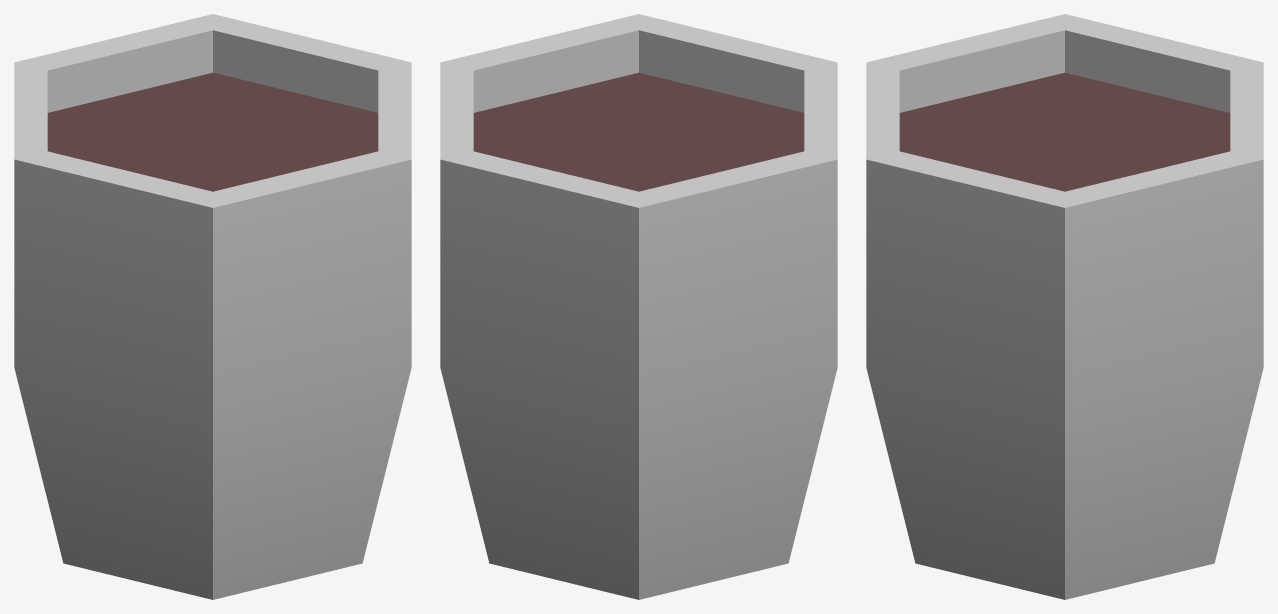
The model's file is Vase1.fbx.
3 views of the same model, side by side, from view 1: azimuth 30°, elevation 25°; view 2: azimuth 150°, elevation 25°; view 3: azimuth 270°, elevation 25° (orthographic).
Visible parts, largest first — view 1: Vase1; view 2: Vase1; view 3: Vase1.
Boxes of the visible parts, bbox=[...] form: Vase1: bbox=[14, 14, 411, 599]; Vase1: bbox=[440, 14, 837, 599]; Vase1: bbox=[866, 14, 1263, 599].
Bounding box in the file's own units: 2 × 2 × 1.73.
